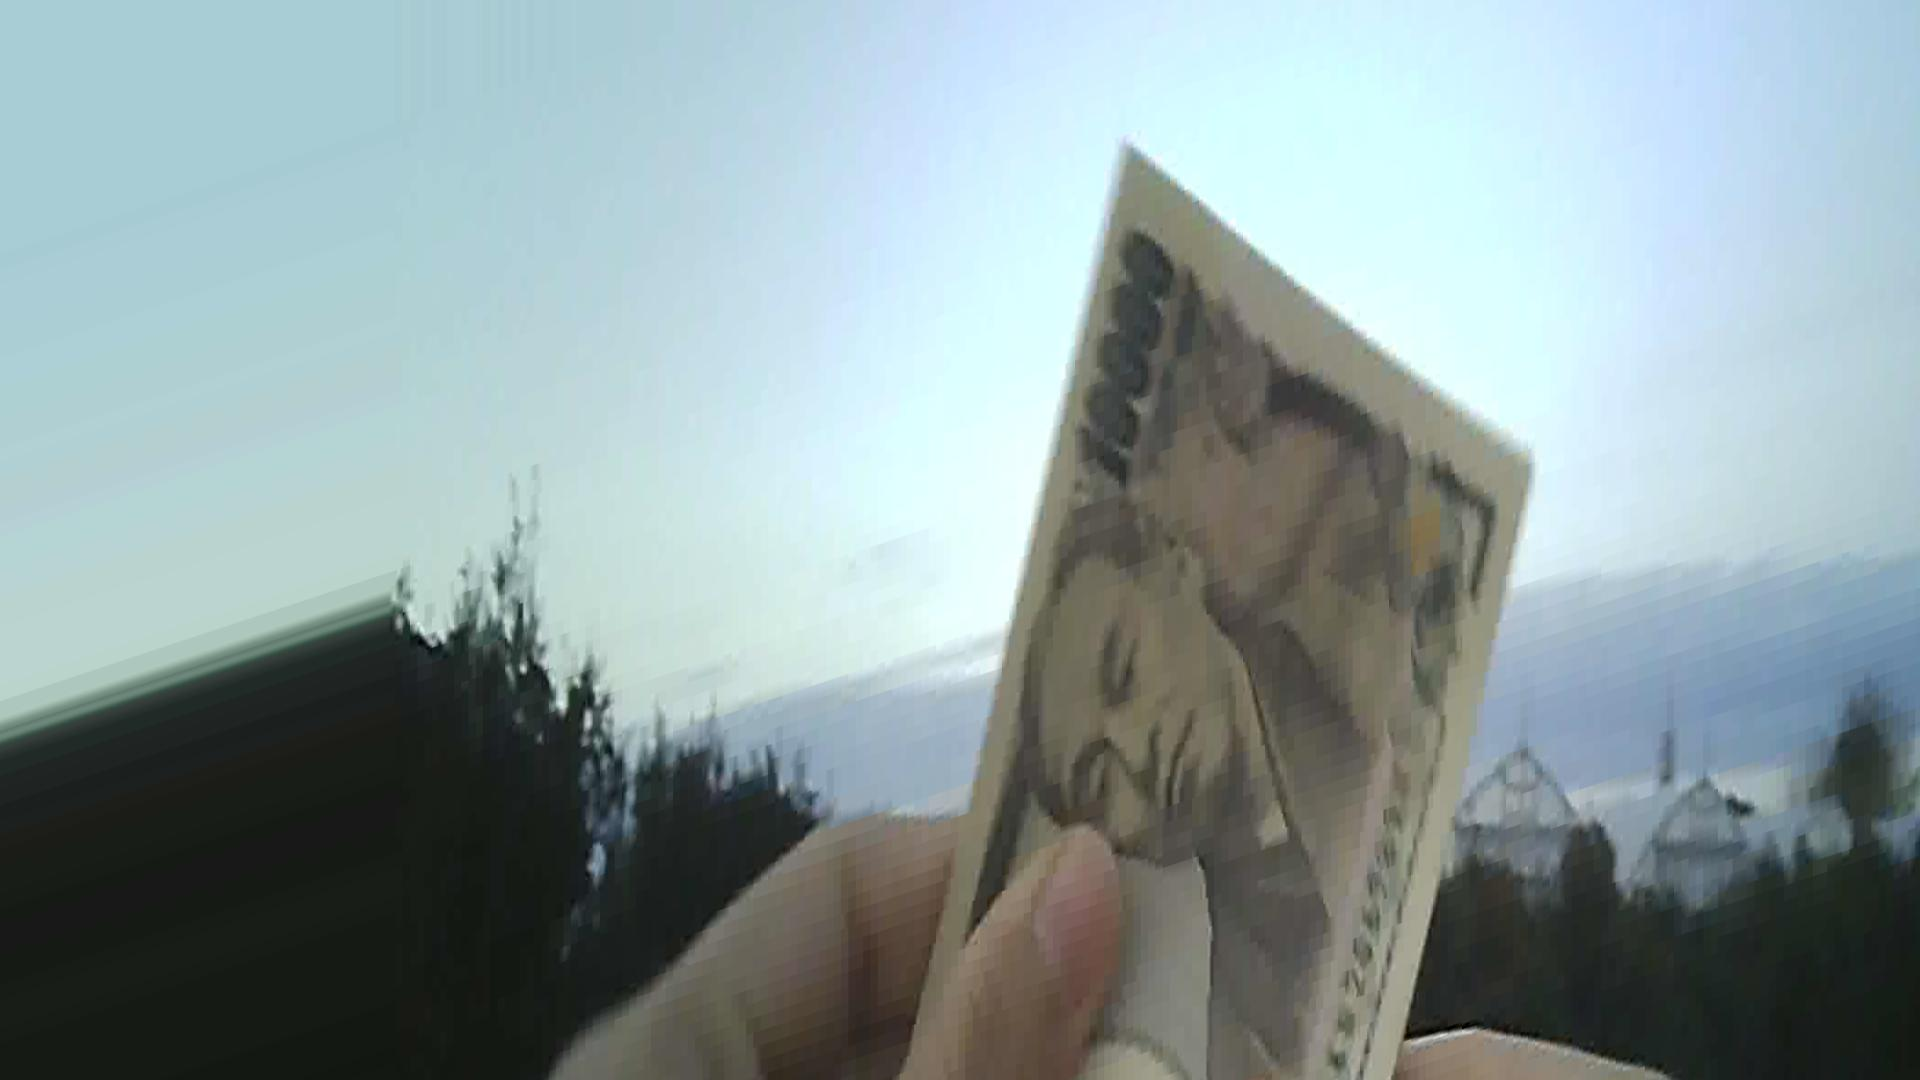10,000 Yen: (893, 156, 1503, 1075)
